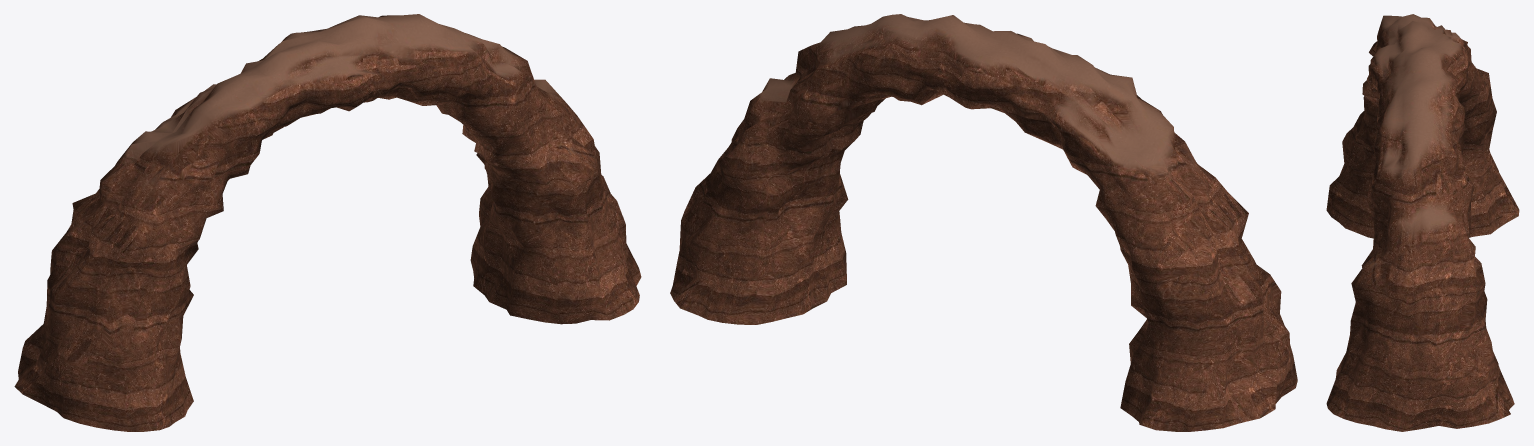
Rendered from sandstone_arch.glb.
3 views of the same model, side by side, from view 1: azimuth 30°, elevation 25°; view 2: azimuth 150°, elevation 25°; view 3: azimuth 270°, elevation 25° (orthographic). The views are drawn at different scales.
Visible parts, largest first — view 1: sandstone_arch; view 2: sandstone_arch; view 3: sandstone_arch.
Part boxes in pixels (<box>): sandstone_arch: <box>14,14,641,431</box>; sandstone_arch: <box>670,14,1297,431</box>; sandstone_arch: <box>1326,14,1519,431</box>.
Size of the model in its own units: 45.01 by 22.77 by 14.36.
Materials: 1 (1 with a texture image).
